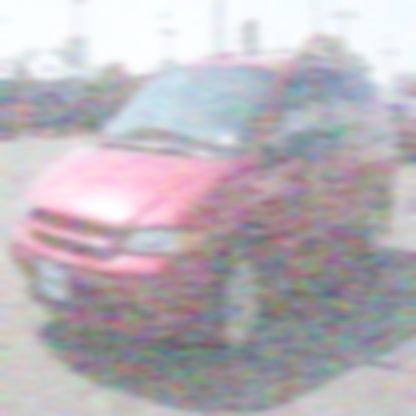Vehicle: (10, 51, 401, 368)
